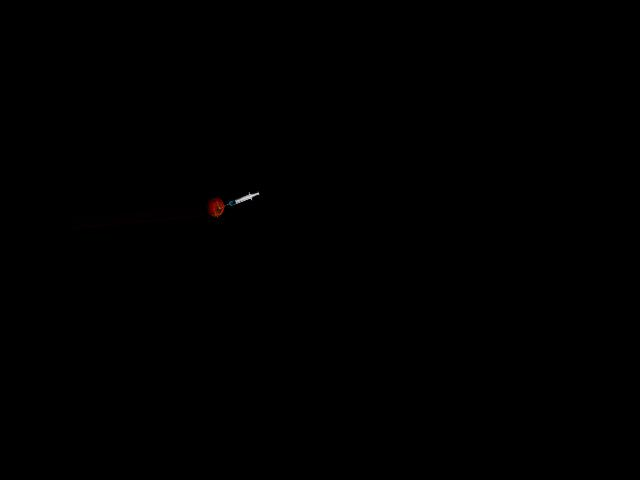tomato: (205, 196, 225, 217)
